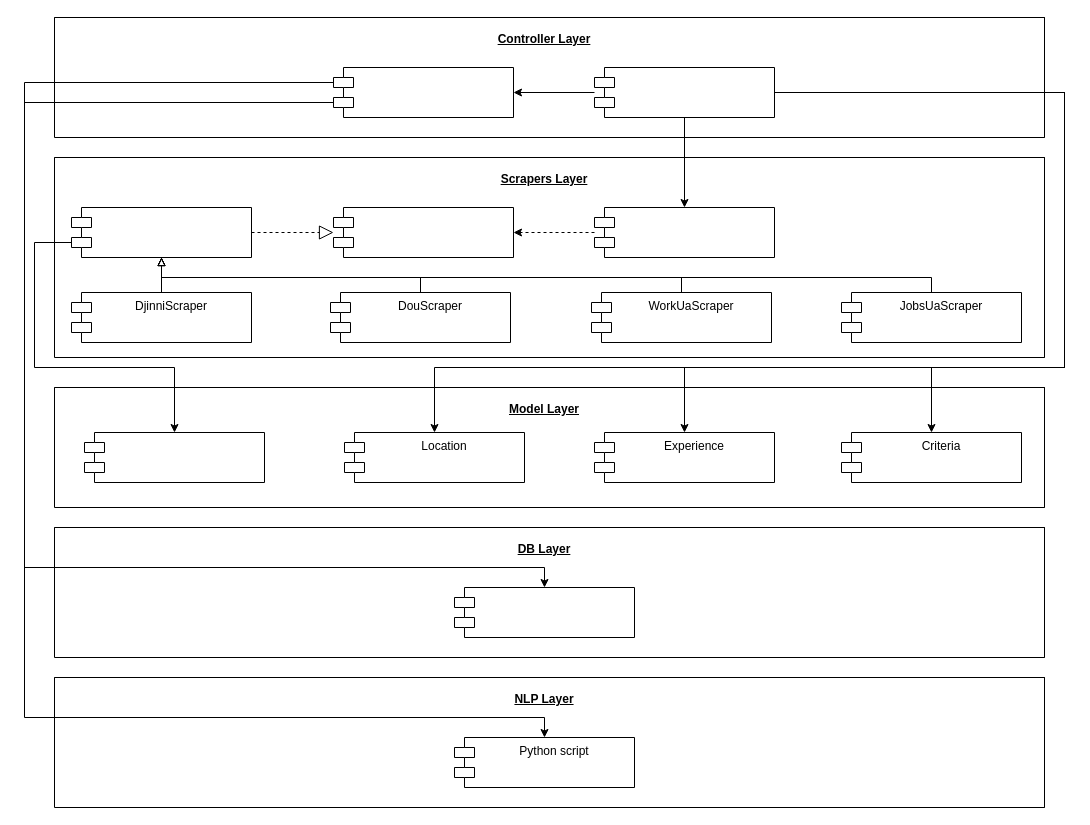
This 1090x825 diagram has some shape labels left out. Here are the shapes that lost their labels. From the top down, the centre of each, then its label:
pixel 423 92: SkillsController
pixel 684 92: VacancyController
pixel 161 232: AbstractScraper
pixel 423 232: IScraper
pixel 684 232: ScrapeManager
pixel 174 457: Vacancy
pixel 544 612: SQLite
